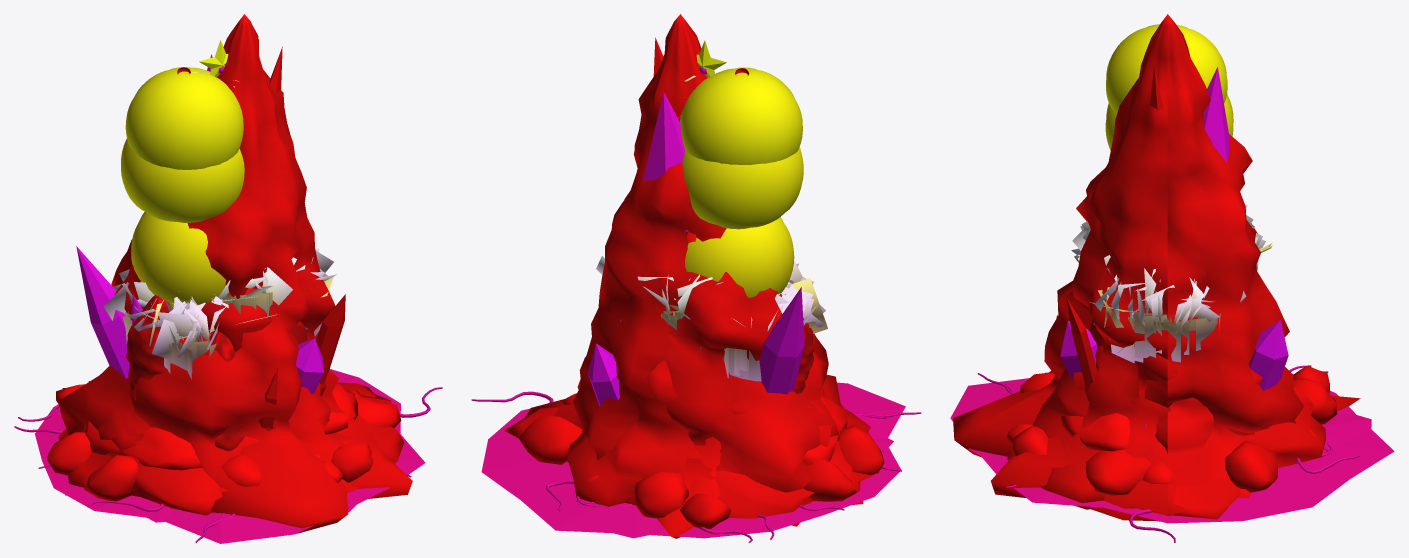
The model's file is features.glb.
3 renders of one model, left to right at view 1: azimuth 30°, elevation 25°; view 2: azimuth 150°, elevation 25°; view 3: azimuth 270°, elevation 25°, orthographic.
Parts seen in each view (by area): view 1: spire_b.lod0, spire_a.lod0, gasbag_a.lod0, crystal_b.lod0, gasbag_b.lod0, gasbag_c.lod0, node_a.lod0, crystal_a.lod0, jungle_canopy_b.lod0, jungle_canopy_a.lod0, spire_c.lod0, hoodoos_d.lod0 (+3 smaller); view 2: spire_b.lod0, spire_a.lod0, crystal_b.lod0, gasbag_a.lod0, crystal_a.lod0, gasbag_b.lod0, gasbag_c.lod0, jungle_canopy_a.lod0, spire_c.lod0, jungle_canopy_b.lod0, tendrils_b.lod0, node_a.lod0 (+2 smaller); view 3: spire_b.lod0, spire_a.lod0, crystal_b.lod0, spire_c.lod0, crystal_a.lod0, gasbag_a.lod0, jungle_canopy_b.lod0, jungle_canopy_a.lod0, node_a.lod0, shards_a.lod0, tendrils_b.lod0, gasbag_b.lod0.
Boxes of the visible parts, <box> form: spire_b.lod0: <box>58,14,412,533</box>; spire_a.lod0: <box>47,288,404,515</box>; gasbag_a.lod0: <box>125,67,243,169</box>; crystal_b.lod0: <box>35,338,425,543</box>; gasbag_b.lod0: <box>121,138,244,222</box>; gasbag_c.lod0: <box>131,212,226,304</box>; node_a.lod0: <box>83,384,358,470</box>; crystal_a.lod0: <box>76,54,356,522</box>; jungle_canopy_b.lod0: <box>134,248,319,379</box>; jungle_canopy_a.lod0: <box>103,251,337,343</box>; spire_c.lod0: <box>218,382,376,491</box>; hoodoos_d.lod0: <box>126,295,170,389</box>; spire_b.lod0: <box>519,14,884,538</box>; spire_a.lod0: <box>566,232,870,529</box>; crystal_b.lod0: <box>481,382,905,538</box>; gasbag_a.lod0: <box>680,67,802,165</box>; crystal_a.lod0: <box>587,92,893,538</box>; gasbag_b.lod0: <box>682,147,803,229</box>; gasbag_c.lod0: <box>685,217,794,297</box>; jungle_canopy_a.lod0: <box>603,264,807,381</box>; spire_c.lod0: <box>504,388,824,526</box>; jungle_canopy_b.lod0: <box>596,256,825,351</box>; tendrils_b.lod0: <box>471,391,921,542</box>; node_a.lod0: <box>802,395,847,465</box>; spire_b.lod0: <box>953,14,1360,520</box>; spire_a.lod0: <box>1007,354,1329,509</box>; crystal_b.lod0: <box>950,320,1394,523</box>; spire_c.lod0: <box>1012,372,1254,521</box>; crystal_a.lod0: <box>969,67,1371,455</box>; gasbag_a.lod0: <box>1106,24,1227,112</box>; jungle_canopy_b.lod0: <box>1071,204,1254,362</box>; jungle_canopy_a.lod0: <box>1072,221,1265,363</box>; node_a.lod0: <box>1060,413,1129,451</box>; shards_a.lod0: <box>1056,66,1163,401</box>; tendrils_b.lod0: <box>977,365,1359,542</box>; gasbag_b.lod0: <box>1105,94,1233,150</box>.
Size of what is drawn, in the model's own units: 187 by 209 by 181.
